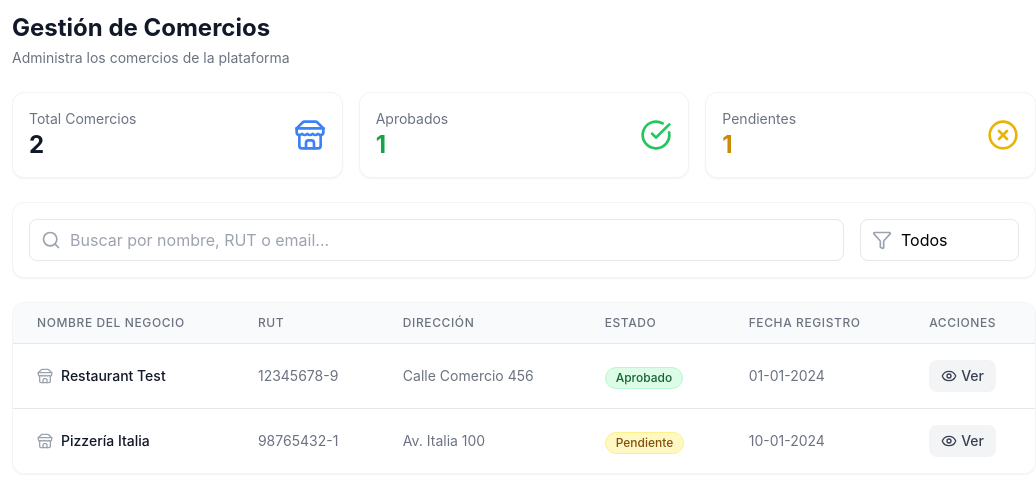
Test: Merchants Component › Filtros › debe filtrar comercios pendientes
Expected: the text "Pizzería Italia" is shown, left=61, top=431, right=150, bottom=451
Select "Pendientes" in the dropdown at (940, 240), box left=860, top=219, right=1019, bottom=261
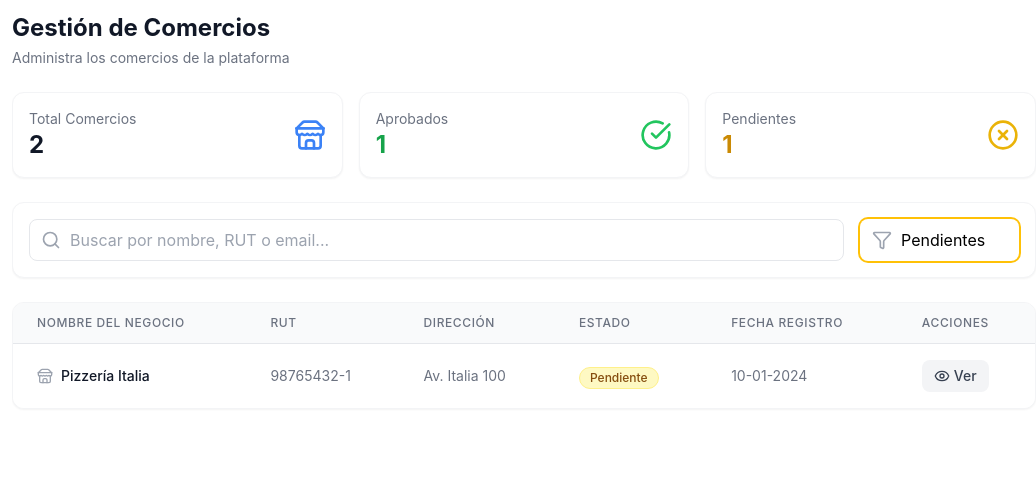
Expected: the text "Pizzería Italia" is shown, left=61, top=366, right=150, bottom=386
Now the text "Restaurant Test" is gone
